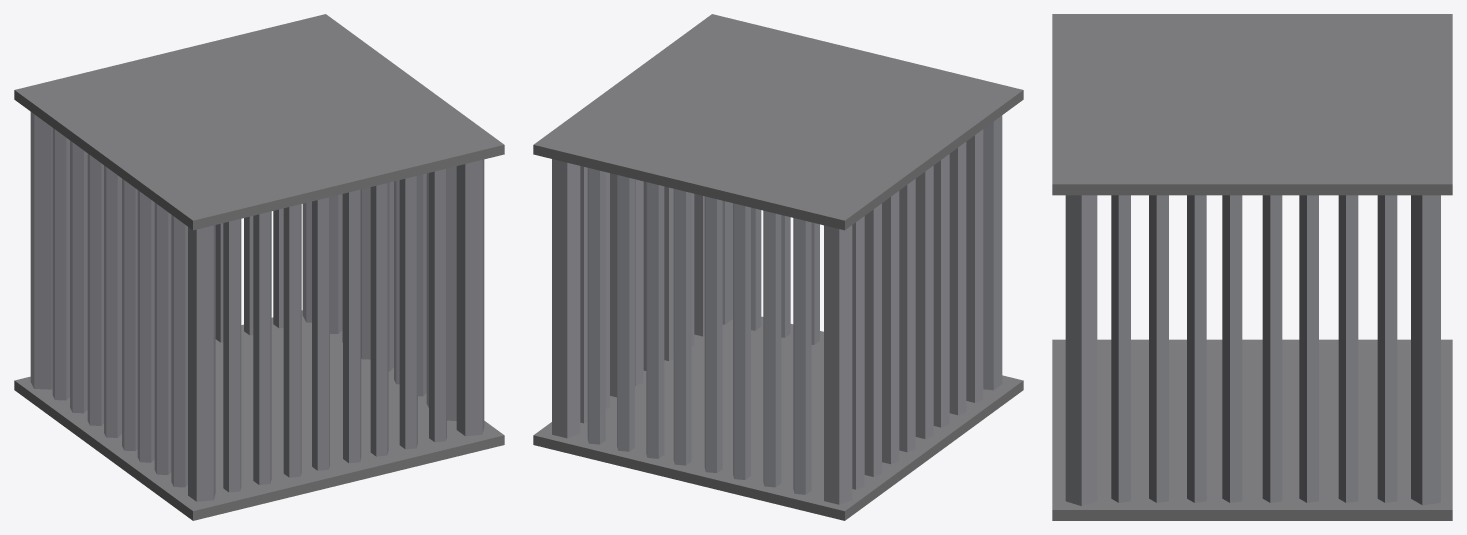
Rendered from Jaula.fbx.
3 renders of one model, left to right at view 1: azimuth 30°, elevation 25°; view 2: azimuth 150°, elevation 25°; view 3: azimuth 270°, elevation 25°, orthographic. The views are drawn at different scales.
Visible parts, largest first — view 1: Jaula; view 2: Jaula; view 3: Jaula.
Boxes of the visible parts, <box> form: Jaula: <box>14,14,504,520</box>; Jaula: <box>533,14,1023,520</box>; Jaula: <box>1052,14,1452,520</box>.
Bounding box in the file's own units: 3.53 × 3.25 × 3.51.
